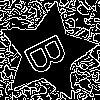B: (22, 27, 78, 78)
